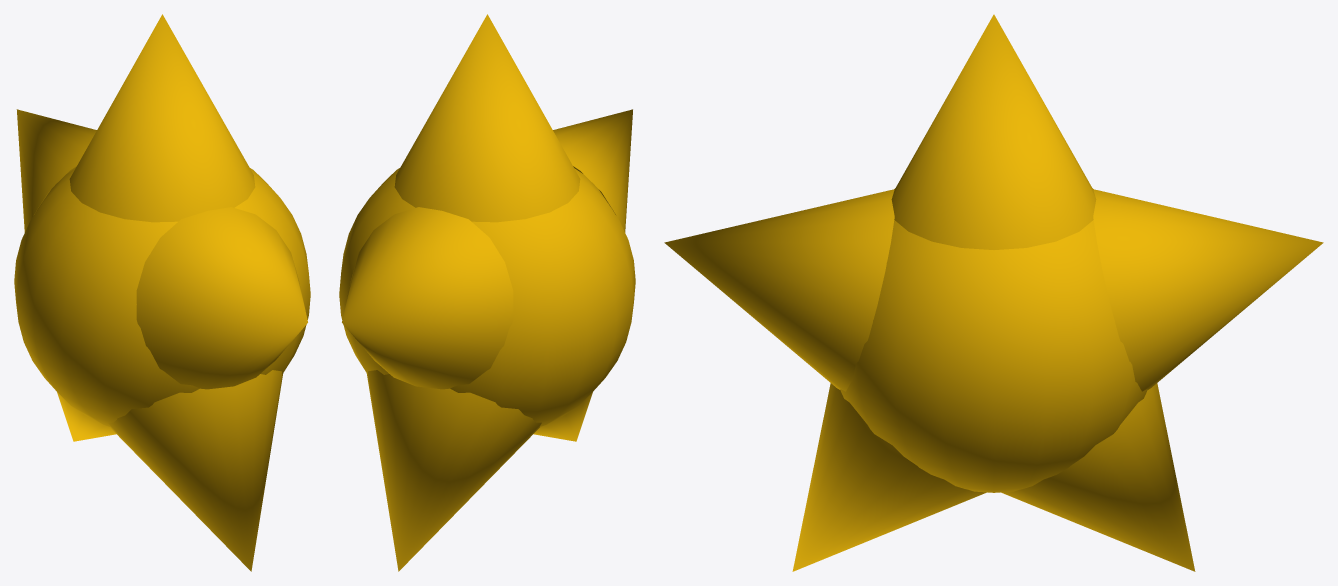
Rendered from Star.fbx.
3 views of the same model, side by side, from view 1: azimuth 30°, elevation 25°; view 2: azimuth 150°, elevation 25°; view 3: azimuth 270°, elevation 25° (orthographic). The views are drawn at different scales.
Visible parts, largest first — view 1: pSphere1, pCone4, pCone1, pCone5, pCone2, pCone3; view 2: pSphere1, pCone2, pCone1, pCone3, pCone4, pCone5; view 3: pSphere1, pCone1, pCone2, pCone4, pCone3, pCone5.
Part boxes in pixels (x1,y1,x2,y2): pSphere1: (14,168,310,426); pCone4: (136,207,307,389); pCone1: (69,14,255,222); pCone5: (108,370,283,571); pCone2: (16,109,96,232); pCone3: (57,392,116,441); pSphere1: (339,168,635,426); pCone2: (342,207,513,389); pCone1: (394,14,580,222); pCone3: (366,370,541,571); pCone4: (553,109,632,232); pCone5: (533,392,592,441); pSphere1: (840,188,1147,492); pCone1: (891,14,1096,249); pCone2: (1093,189,1323,391); pCone4: (664,189,894,391); pCone3: (1001,383,1195,571); pCone5: (792,383,986,571).
Size of the model in its own units: 2 by 3.65 by 3.91.
